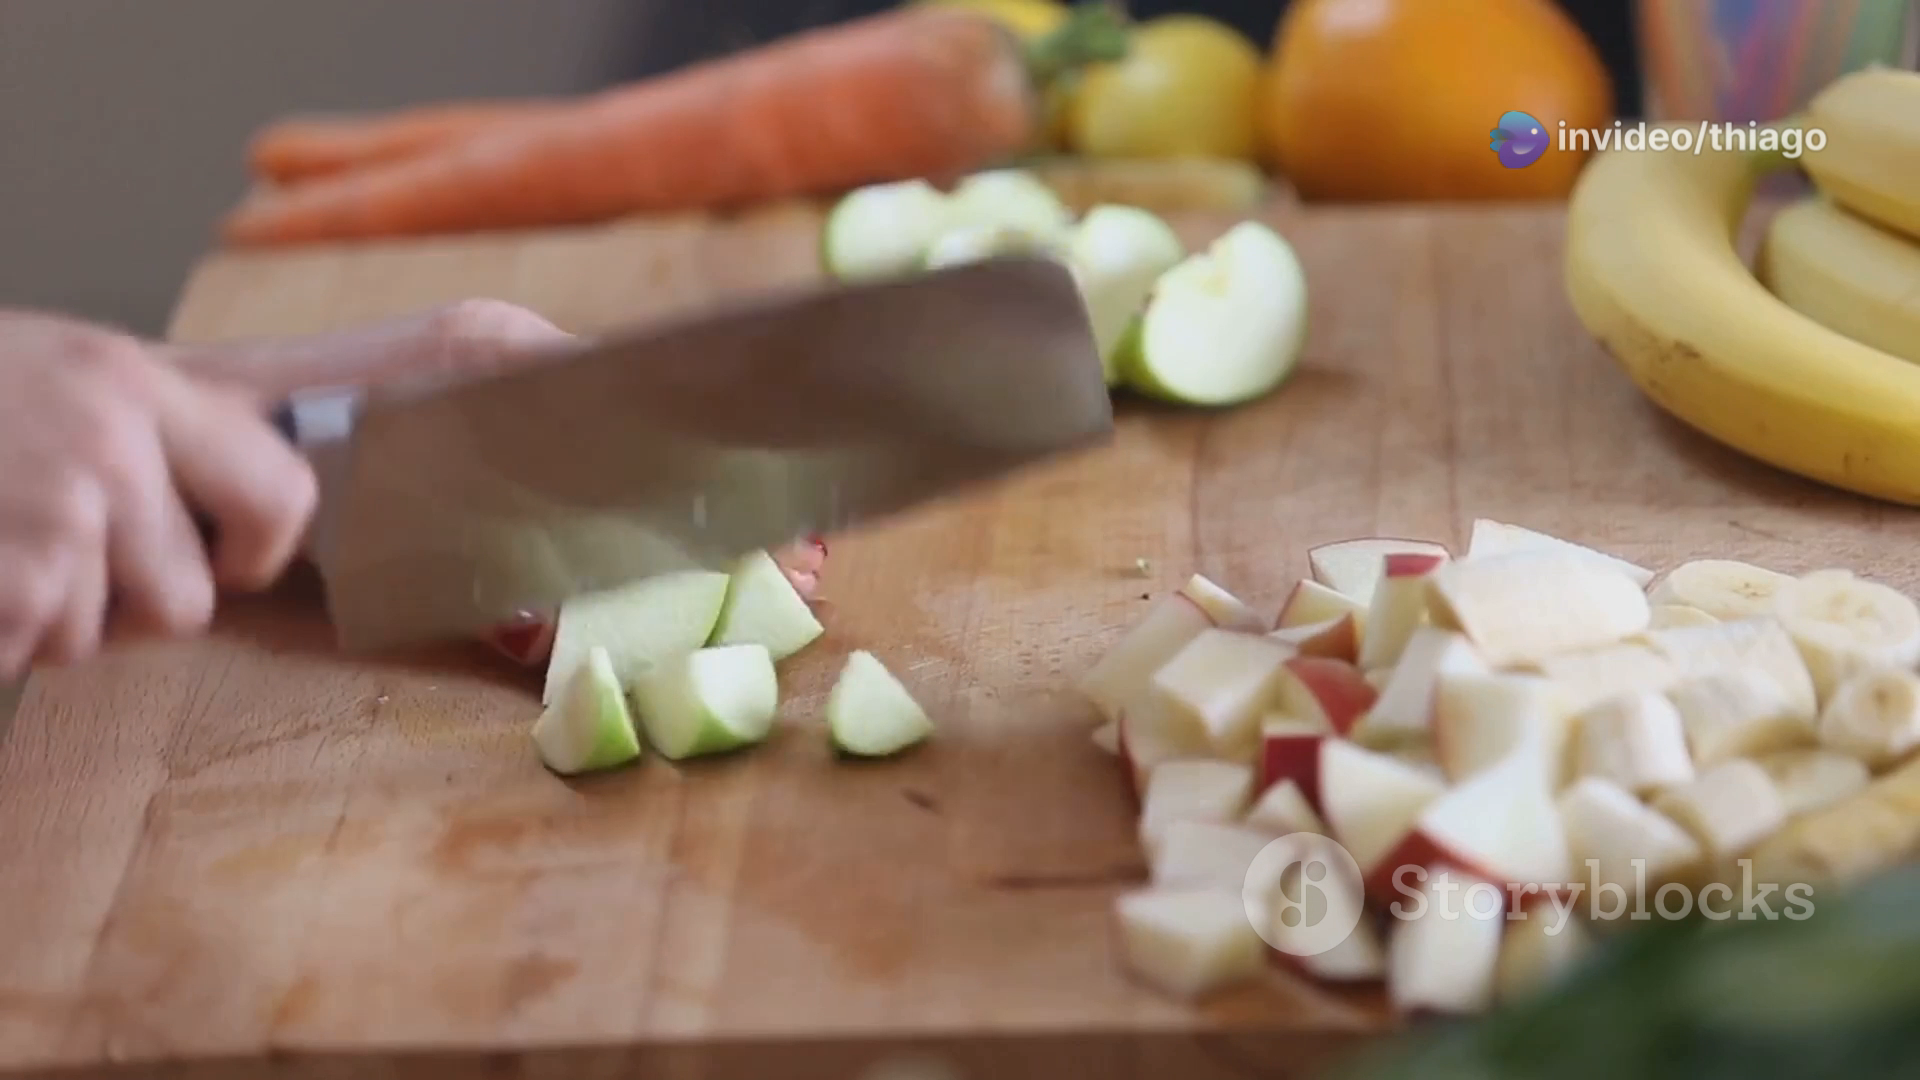cortante: (297, 255, 1113, 654)
